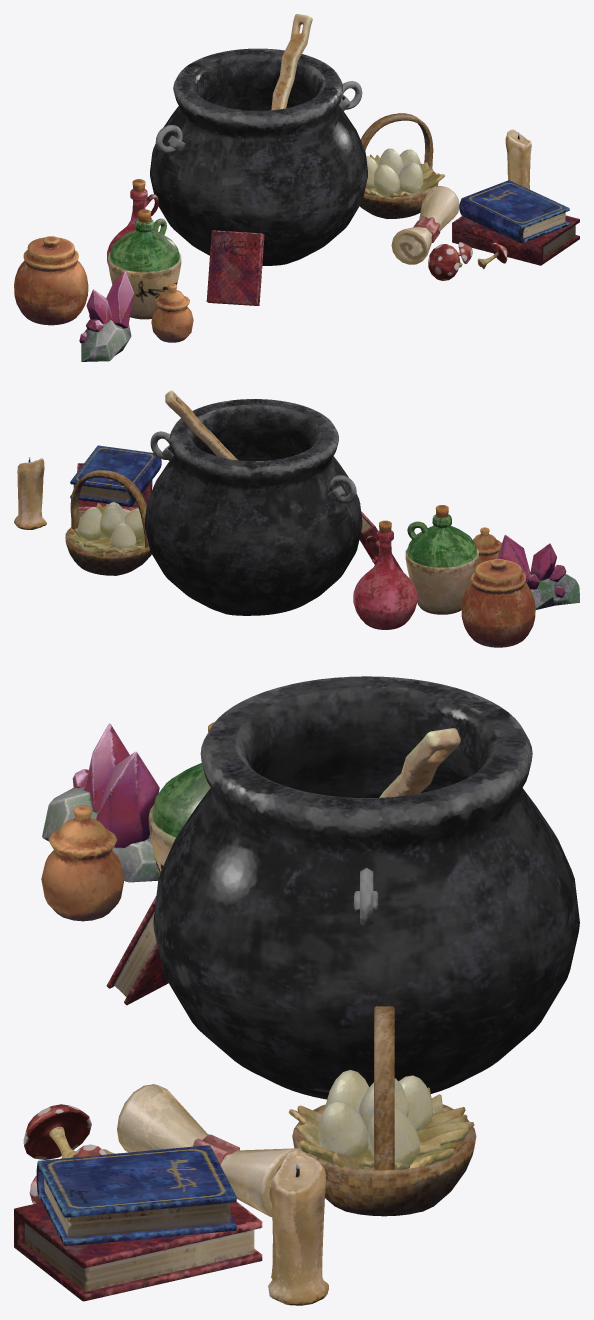
File: little_witch_asset_pack.glb
3 views of the same model, one above another, from view 1: azimuth 30°, elevation 25°; view 2: azimuth 150°, elevation 25°; view 3: azimuth 270°, elevation 25° (orthographic). The views are drawn at different scales.
Visible parts, largest first — view 1: cauldron, jar, eggies.001, bottle, tomb, book.001, cystals, book, skroll, mini jar, Plane, candle (+2 smaller); view 2: cauldron, eggies.001, bottle, jar, pitcher, tomb, cystals, candle, Plane, mini jar, book.001, book; view 3: cauldron, eggies.001, tomb, book, cystals, skroll, candle, mini jar, bottle, book.001, mushrooms, Plane.
Part boxes in pixels (x1,y1,x2,y2): cauldron: [150, 48, 367, 265]; jar: [14, 236, 88, 325]; eggies.001: [360, 113, 444, 218]; bottle: [108, 209, 181, 319]; tomb: [459, 180, 569, 243]; book.001: [206, 230, 264, 305]; cystals: [79, 271, 133, 361]; book: [452, 215, 579, 265]; skroll: [391, 186, 459, 264]; mini jar: [151, 283, 193, 342]; Plane: [271, 14, 312, 110]; candle: [505, 129, 531, 189]; cauldron: [144, 399, 362, 615]; eggies.001: [65, 470, 151, 575]; bottle: [405, 505, 478, 614]; jar: [461, 558, 535, 647]; pitcher: [353, 520, 417, 629]; tomb: [70, 445, 161, 506]; cystals: [497, 534, 579, 609]; candle: [14, 457, 46, 529]; Plane: [165, 390, 237, 460]; mini jar: [473, 527, 501, 564]; book.001: [359, 511, 403, 572]; book: [77, 463, 152, 517]; cauldron: [153, 676, 579, 1099]; eggies.001: [288, 1006, 476, 1216]; tomb: [36, 1145, 236, 1246]; book: [14, 1201, 262, 1301]; cystals: [42, 723, 159, 882]; skroll: [117, 1084, 306, 1217]; candle: [268, 1150, 328, 1305]; mini jar: [41, 805, 124, 921]; bottle: [148, 722, 214, 875]; book.001: [106, 896, 168, 1005]; mushrooms: [23, 1104, 91, 1159]; Plane: [379, 728, 460, 797].
Size of the model in its own units: 10.76 by 4.05 by 5.25.
Materials: 5 (5 with a texture image).
